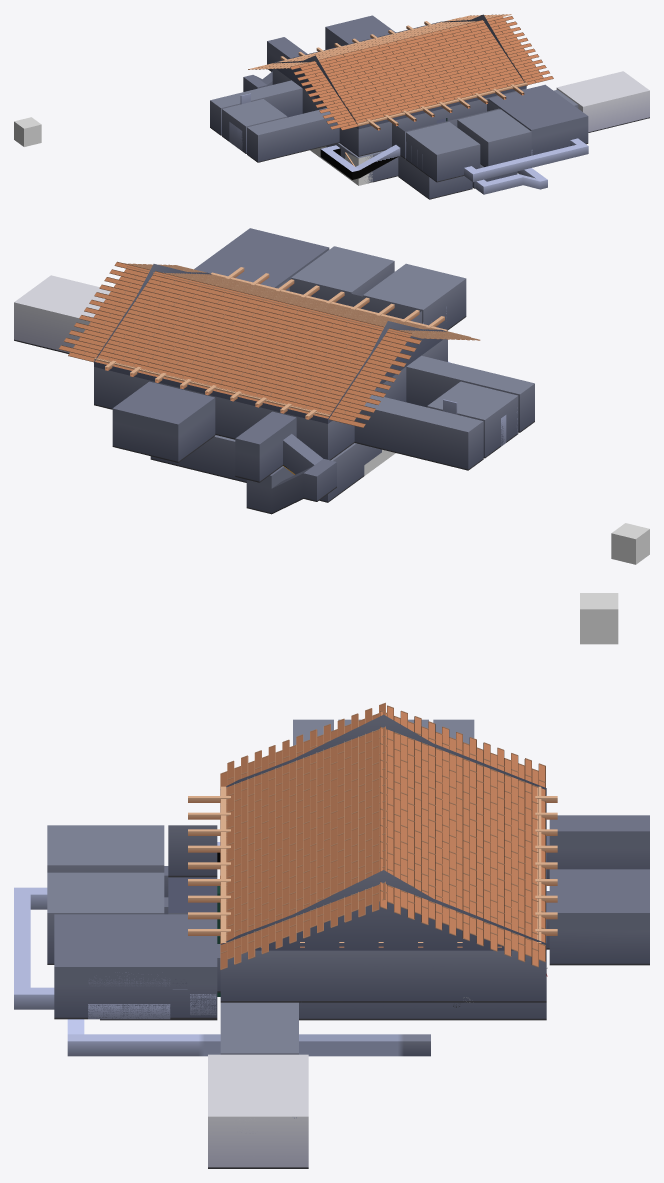
The model's file is map.glb.
3 renders of one model, top to bottom at view 1: azimuth 30°, elevation 25°; view 2: azimuth 150°, elevation 25°; view 3: azimuth 270°, elevation 25°, orthographic. The views are drawn at different scales.
Visible parts, largest first — view 1: Cube.042.001-col, Cube.057, Cube.042.002-col, Cube.042.003-col, Cube.058, Cube.042-col, Cube.042-col.002, Cube.042-col.003, Cube.060, Cube.070, Cube.059, Cube.059-colonly.001; view 2: Cube.042.001-col, Cube.058, Cube.042.002-col, Cube.057, Cube.042.003-col, Cube.060, Cube.070, Cube.059; view 3: Cube.042.001-col, Cube.058, Cube.057, Cube.042-col.003, Cube.042.002-col, Cube.042.003-col, Cube.060, Cube.042-col, Cube.070, Cube.059, Cube.038-convcol.
Part boxes in pixels (bbox=[...]): Cube.042.001-col: bbox=[210, 14, 649, 199]; Cube.057: bbox=[290, 15, 553, 130]; Cube.042.002-col: bbox=[406, 122, 480, 182]; Cube.042.003-col: bbox=[457, 109, 531, 166]; Cube.058: bbox=[248, 14, 511, 69]; Cube.042-col: bbox=[464, 138, 588, 181]; Cube.042-col.002: bbox=[320, 145, 400, 179]; Cube.042-col.003: bbox=[475, 168, 547, 194]; Cube.060: bbox=[280, 21, 524, 130]; Cube.070: bbox=[14, 117, 41, 146]; Cube.059: bbox=[277, 22, 527, 125]; Cube.059-colonly.001: bbox=[310, 146, 372, 185]; Cube.042.001-col: bbox=[14, 228, 534, 514]; Cube.058: bbox=[59, 261, 421, 427]; Cube.042.002-col: bbox=[363, 263, 466, 330]; Cube.057: bbox=[125, 263, 480, 340]; Cube.042.003-col: bbox=[291, 246, 394, 296]; Cube.060: bbox=[105, 267, 444, 419]; Cube.070: bbox=[611, 523, 649, 564]; Cube.059: bbox=[94, 272, 447, 416]; Cube.042.001-col: bbox=[54, 714, 649, 1168]; Cube.058: bbox=[380, 705, 545, 967]; Cube.057: bbox=[220, 702, 385, 969]; Cube.042-col.003: bbox=[67, 1019, 430, 1056]; Cube.042.002-col: bbox=[47, 825, 164, 872]; Cube.042.003-col: bbox=[47, 872, 164, 964]; Cube.060: bbox=[188, 796, 557, 935]; Cube.042-col: bbox=[14, 887, 54, 1009]; Cube.070: bbox=[580, 593, 618, 644]; Cube.059: bbox=[221, 786, 541, 947]; Cube.038-convcol: bbox=[88, 1004, 170, 1019].
Size of what is drawn, in the model's own units: 60.1 by 11.72 by 33.1.
24 materials, 23 textured.
